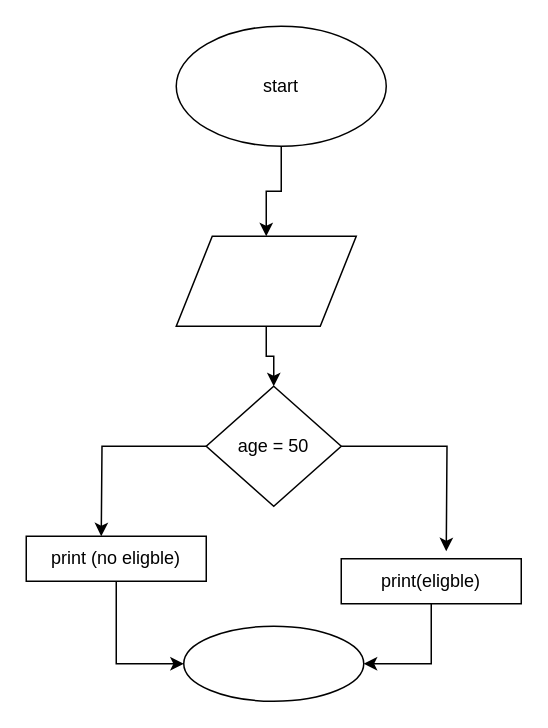
Image size: 548x728. Some labels were removed from this diagram. Each missing label, with the centre of its shape:
accept age: (265,280)
stop: (273,663)
